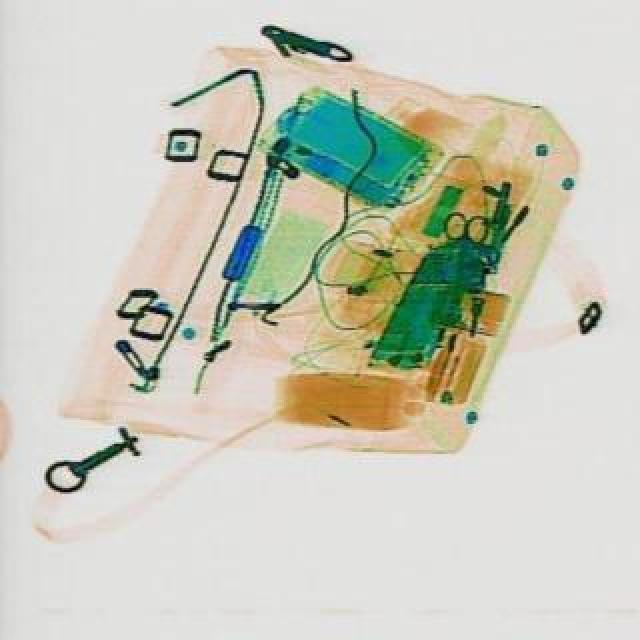pliers: (434, 212, 486, 306)
